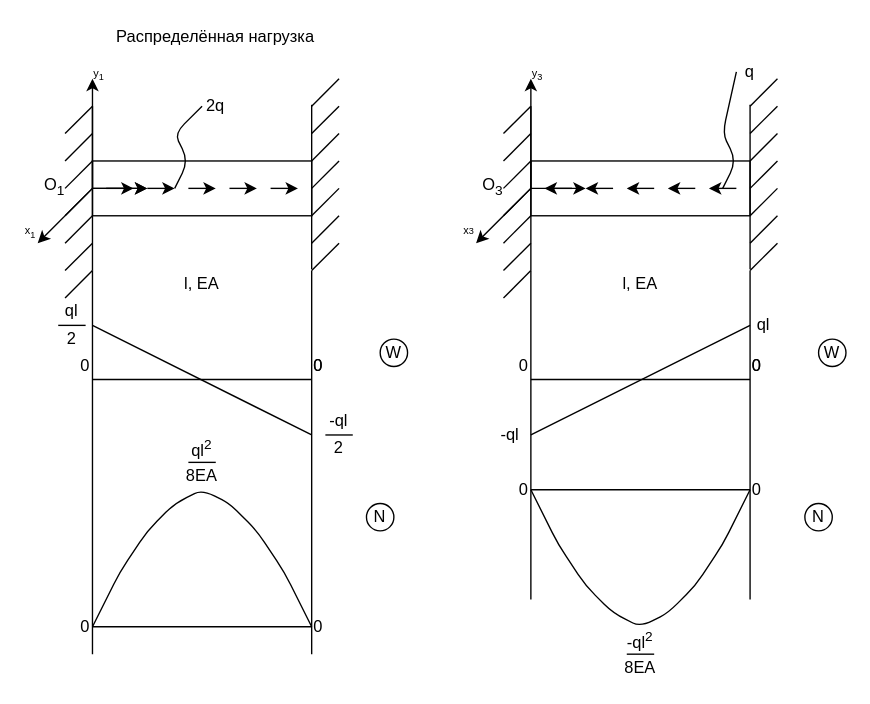
Image size: 870x704. Some labels were removed from this diagram. Here are the shapes that lost their labels. From the top down, the box of each, then its label:
(91, 160, 312, 216): z 1
(530, 160, 750, 216): z 3
